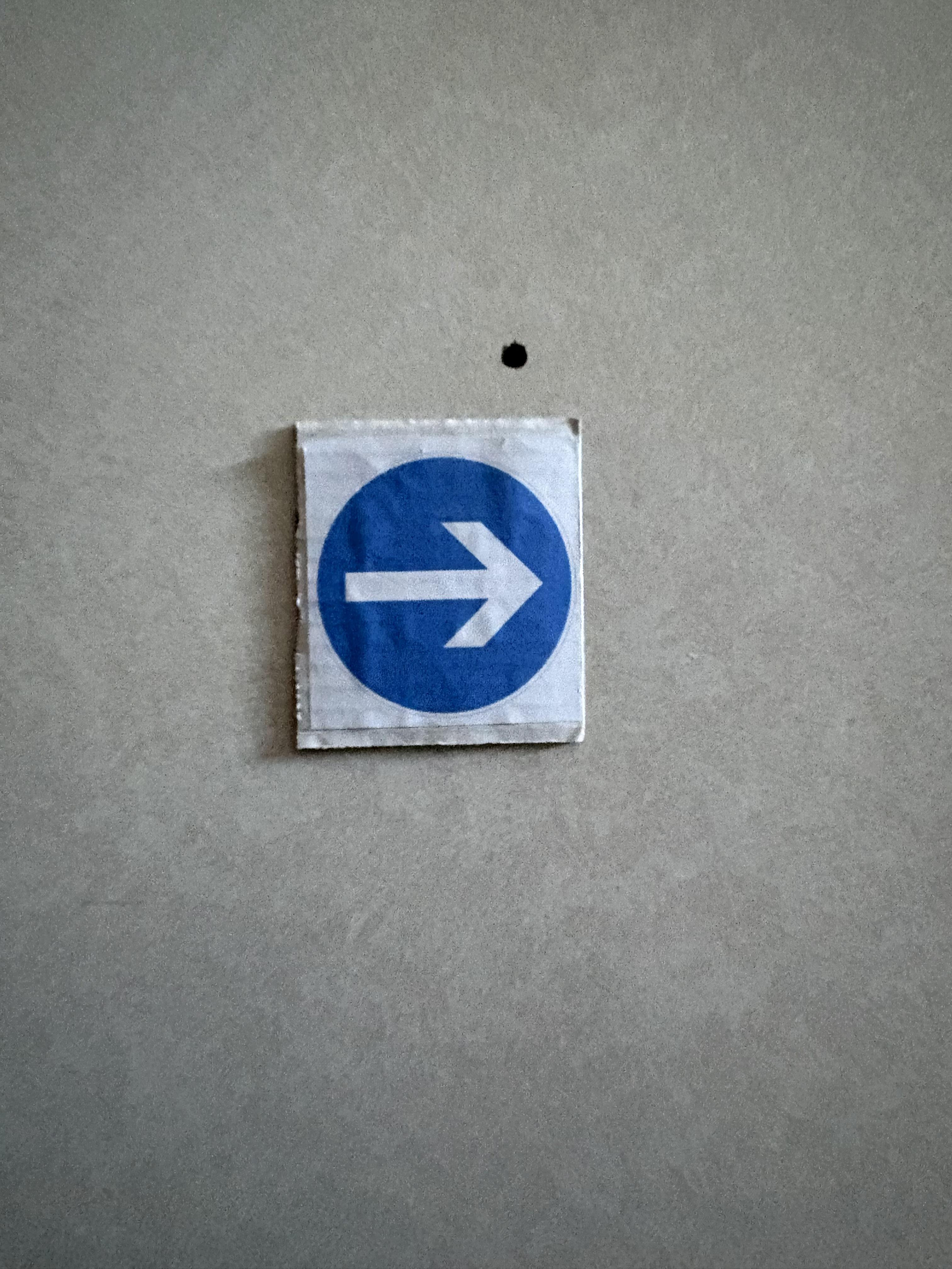Proceed Right: (286, 428, 581, 743)
